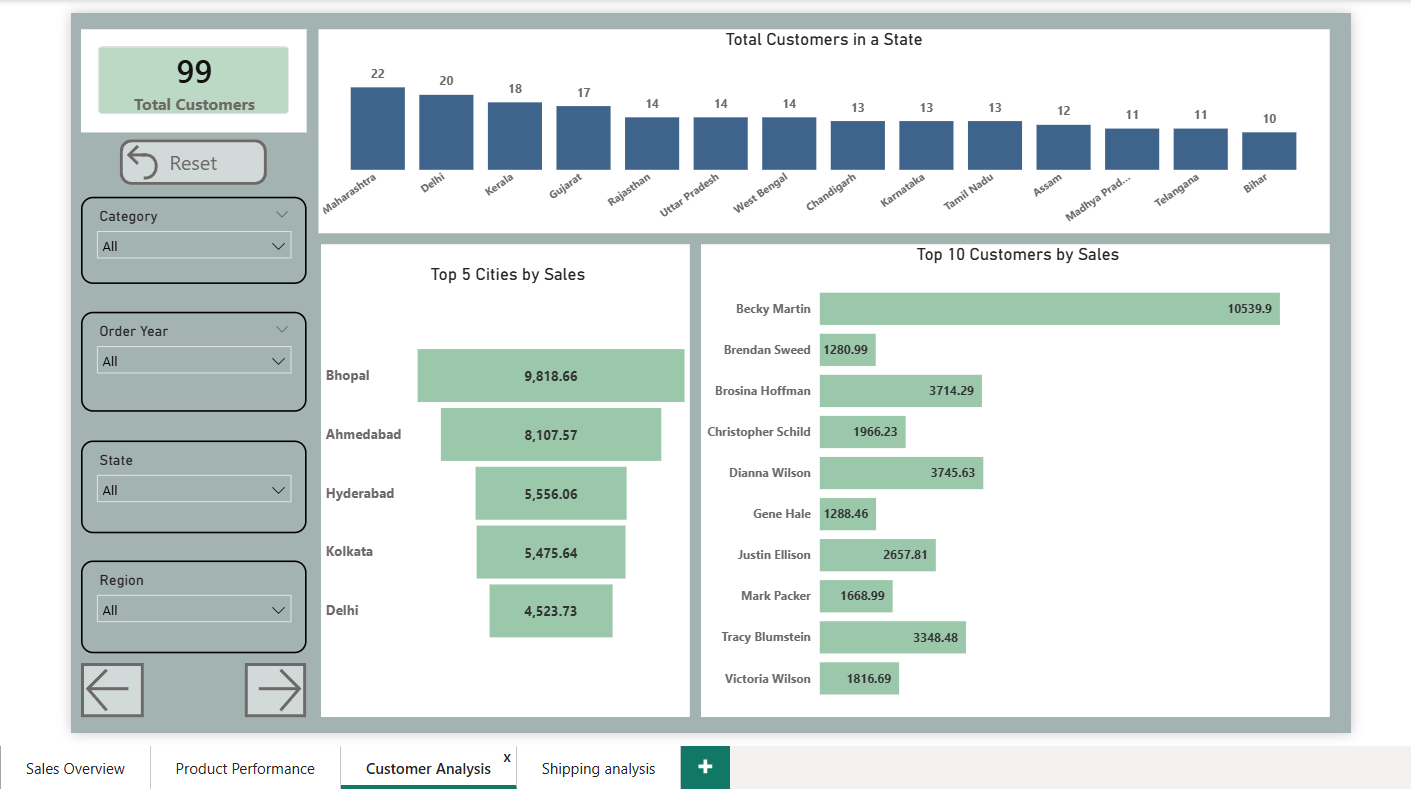

The page's visual inventory and layout, read from the dashboard file:
{"tool":"powerbi","page":{"name":"Customer Analysis","canvas":[1280,720],"ordinal":2},"visuals":[{"type":"slicer","fields":{"Values":["Superstore_India.Category"]},"box":[10,184.3,225.7,87.1],"z":0},{"type":"slicer","fields":{"Values":["Superstore_India.Order Year"]},"box":[10,298.6,225.7,100],"z":1000},{"type":"slicer","fields":{"Values":["Superstore_India.State"]},"box":[10,427.1,225.7,92.9],"z":2000},{"type":"slicer","fields":{"Values":["Superstore_India.Region"]},"box":[10,547.1,225.7,92.9],"z":3000},{"type":"clusteredColumnChart","title":"Total Customers in a State","fields":{"Category":["Superstore_India.State"],"Y":["Superstore_India.Total Customers"]},"box":[247.5,16.2,1011.2,203.8],"z":4000},{"type":"funnel","title":"Top 5 Cities by Sales","fields":{"Category":["Superstore_India.City"],"Y":["Superstore_India.Total Sales"]},"box":[250,231.2,368.8,472.5],"z":5000},{"type":"clusteredBarChart","title":"Top 10 Customers by Sales","fields":{"Category":["Superstore_India.Customer Name"],"Y":["Superstore_India.Total Sales"]},"box":[630,231.2,628.8,472.5],"z":6000},{"type":"actionButton","box":[48.6,125.7,147.1,45.7],"z":7000},{"type":"actionButton","box":[10,650,62.9,54.3],"z":8000},{"type":"actionButton","box":[174.3,650,61.4,54.3],"z":9000},{"type":"cardVisual","fields":{"Data":["Superstore_India.Total Customers"]},"box":[10,15.7,225.7,102.9],"z":10000}]}

Visuals, with their boxes on the page's 1280x720 design canvas (x1, y1, x2, y2). These are canvas units, not pixel positions in the 1411x789 screenshot, which may show the page scaled, cropped or inside an application window:
slicer - Superstore_India.Category: <box>10,184,236,271</box>
slicer - Superstore_India.Order Year: <box>10,299,236,399</box>
slicer - Superstore_India.State: <box>10,427,236,520</box>
slicer - Superstore_India.Region: <box>10,547,236,640</box>
"Total Customers in a State" clusteredColumnChart: <box>248,16,1259,220</box>
"Top 5 Cities by Sales" funnel: <box>250,231,619,704</box>
"Top 10 Customers by Sales" clusteredBarChart: <box>630,231,1259,704</box>
actionButton: <box>49,126,196,171</box>
actionButton: <box>10,650,73,704</box>
actionButton: <box>174,650,236,704</box>
cardVisual - Superstore_India.Total Customers: <box>10,16,236,119</box>
